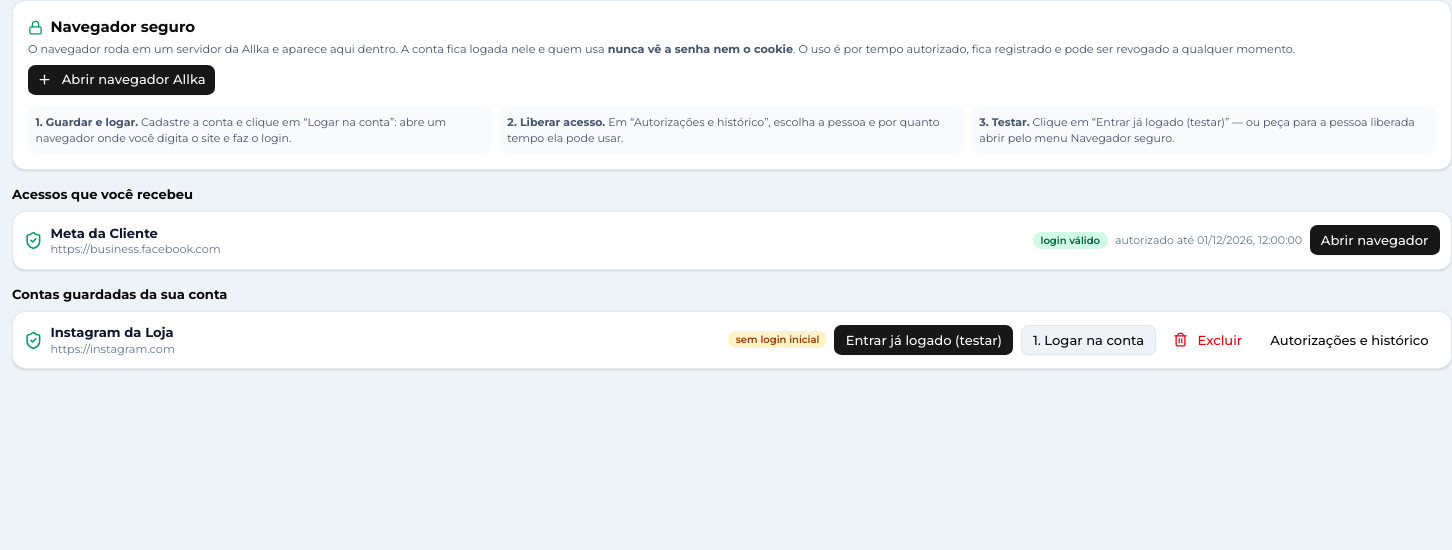
Navegador seguro (tela) › exige o aceite para guardar uma conta e separa 'minhas contas' dos acessos recebidos
The image size is (1452, 550).
Later steps or results of the test are not shown.
Expected: the heading "Acessos que você recebeu" is shown, left=12, top=186, right=193, bottom=202
Expected: the text "Meta da Cliente" is shown, left=50, top=224, right=158, bottom=240
Click the button with test id "new-sb-profile" at (122, 80), box left=28, top=65, right=215, bottom=95
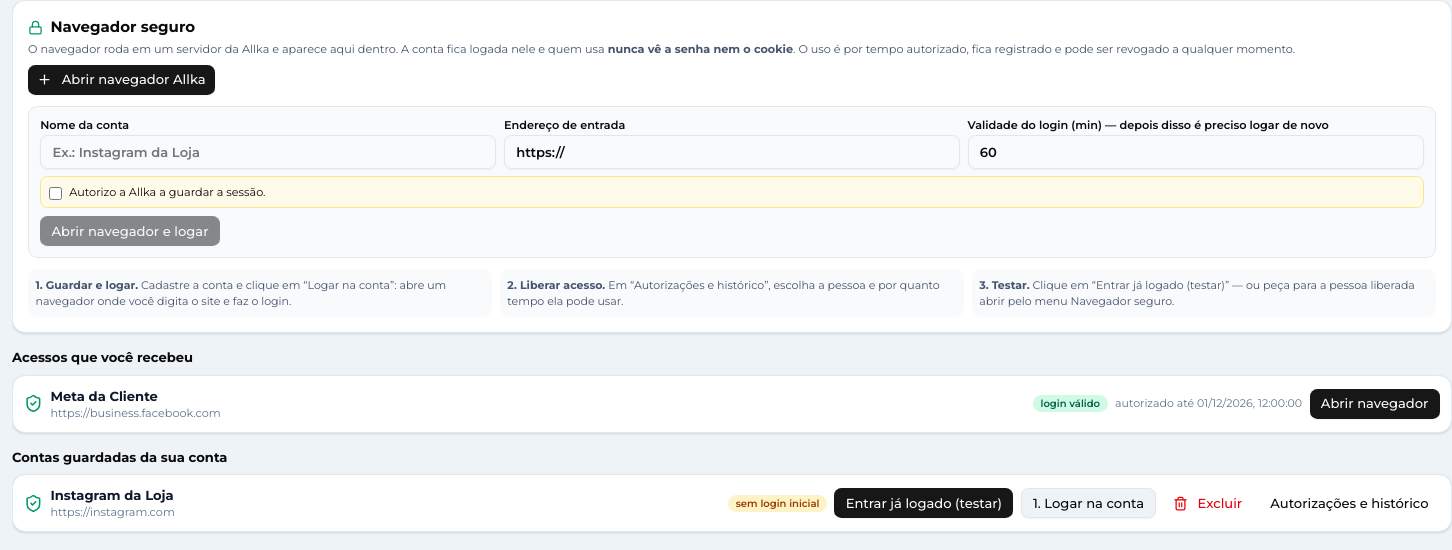
Type "Loja X" into the field labelled "Nome da conta" at (268, 152), box left=40, top=135, right=496, bottom=169
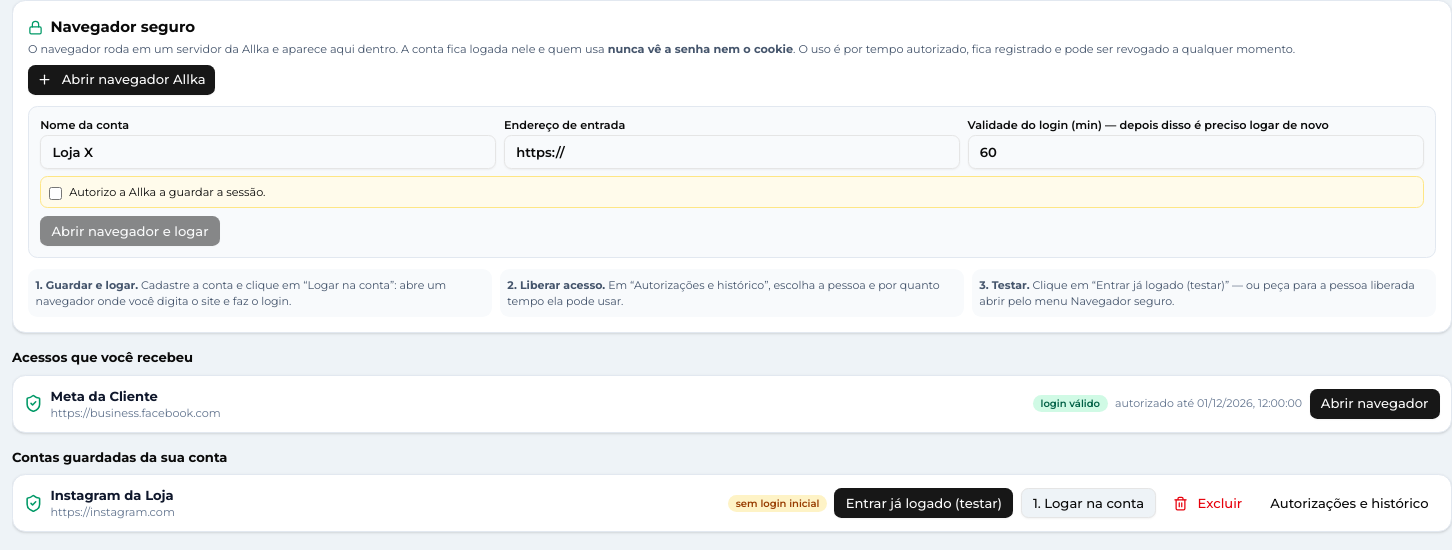
Result: the button with test id "save-sb-profile" is disabled at left=40, top=216, right=220, bottom=246
